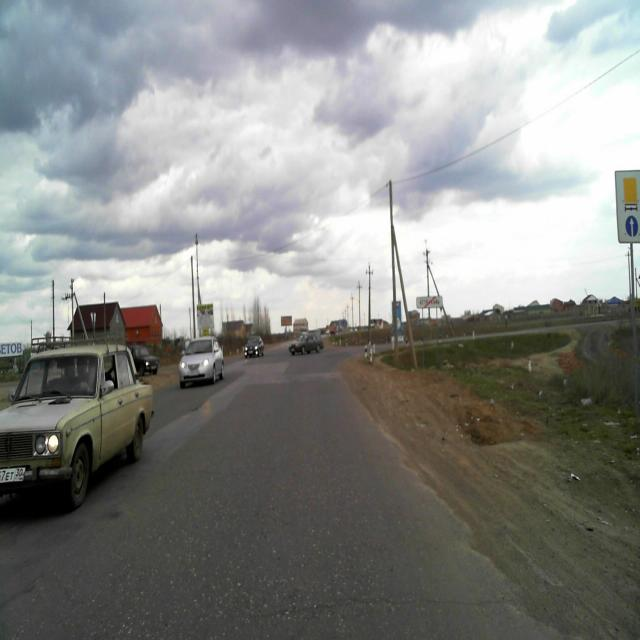road sign: (615, 171, 639, 245), (630, 244, 637, 437), (417, 294, 442, 308), (437, 310, 440, 370), (423, 309, 425, 370)
